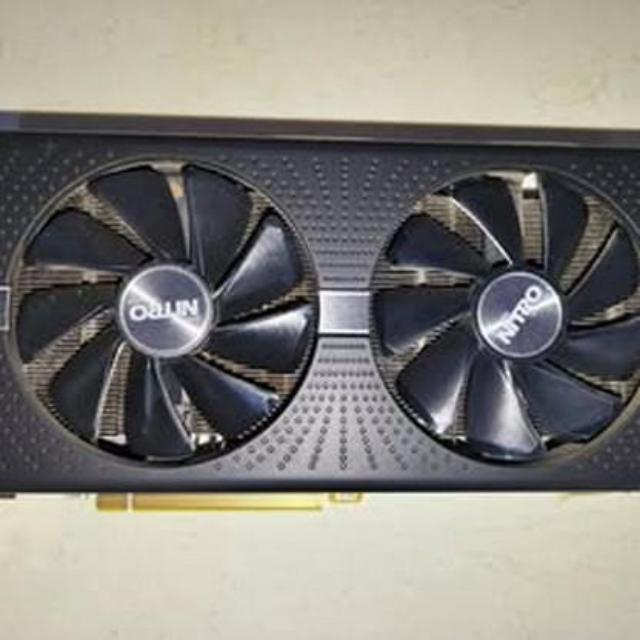GPU: (0, 116, 640, 510)
